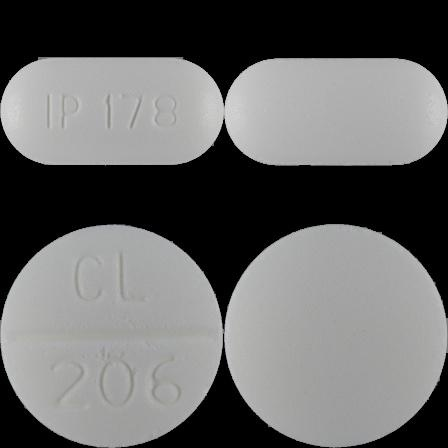69189-0178: (0, 0, 224, 224)
